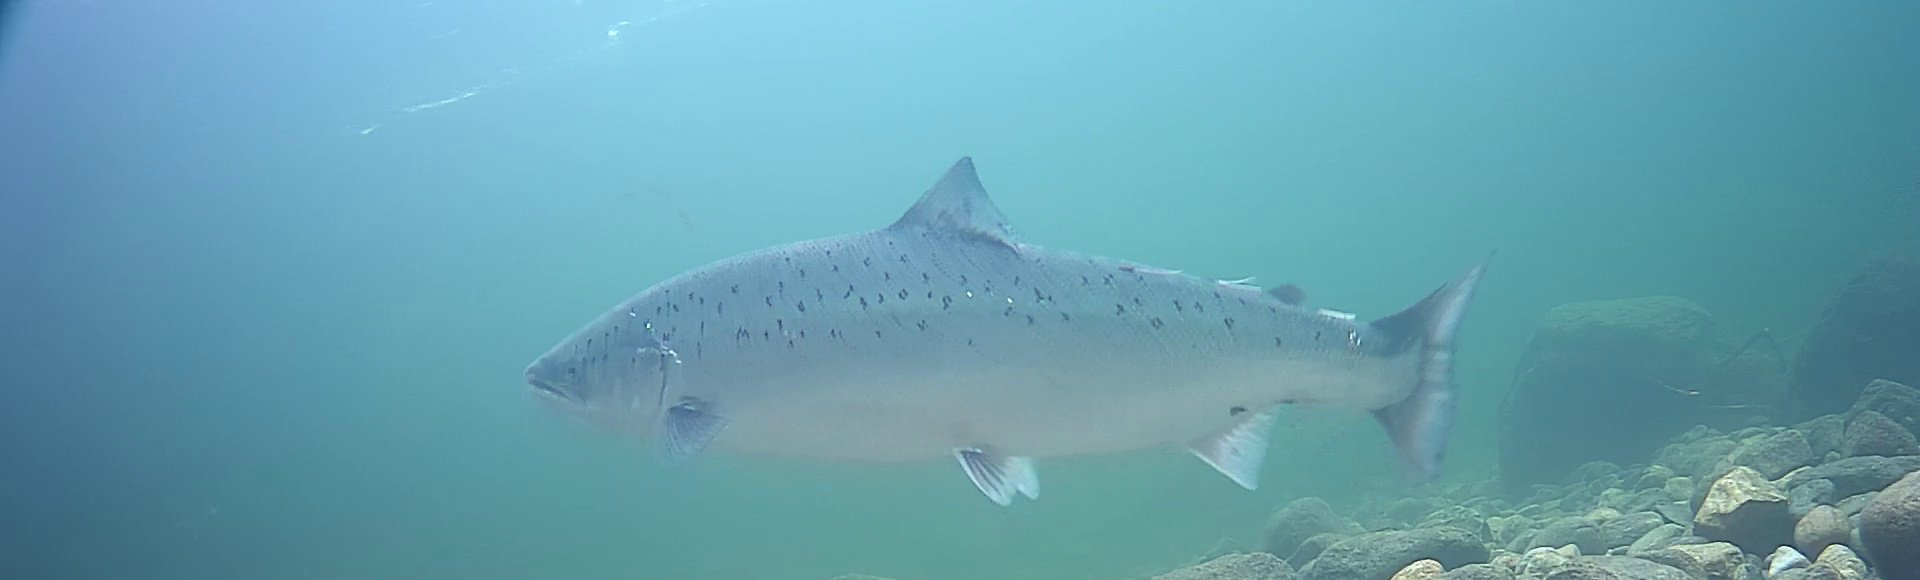salmon: (519, 153, 1488, 509)
